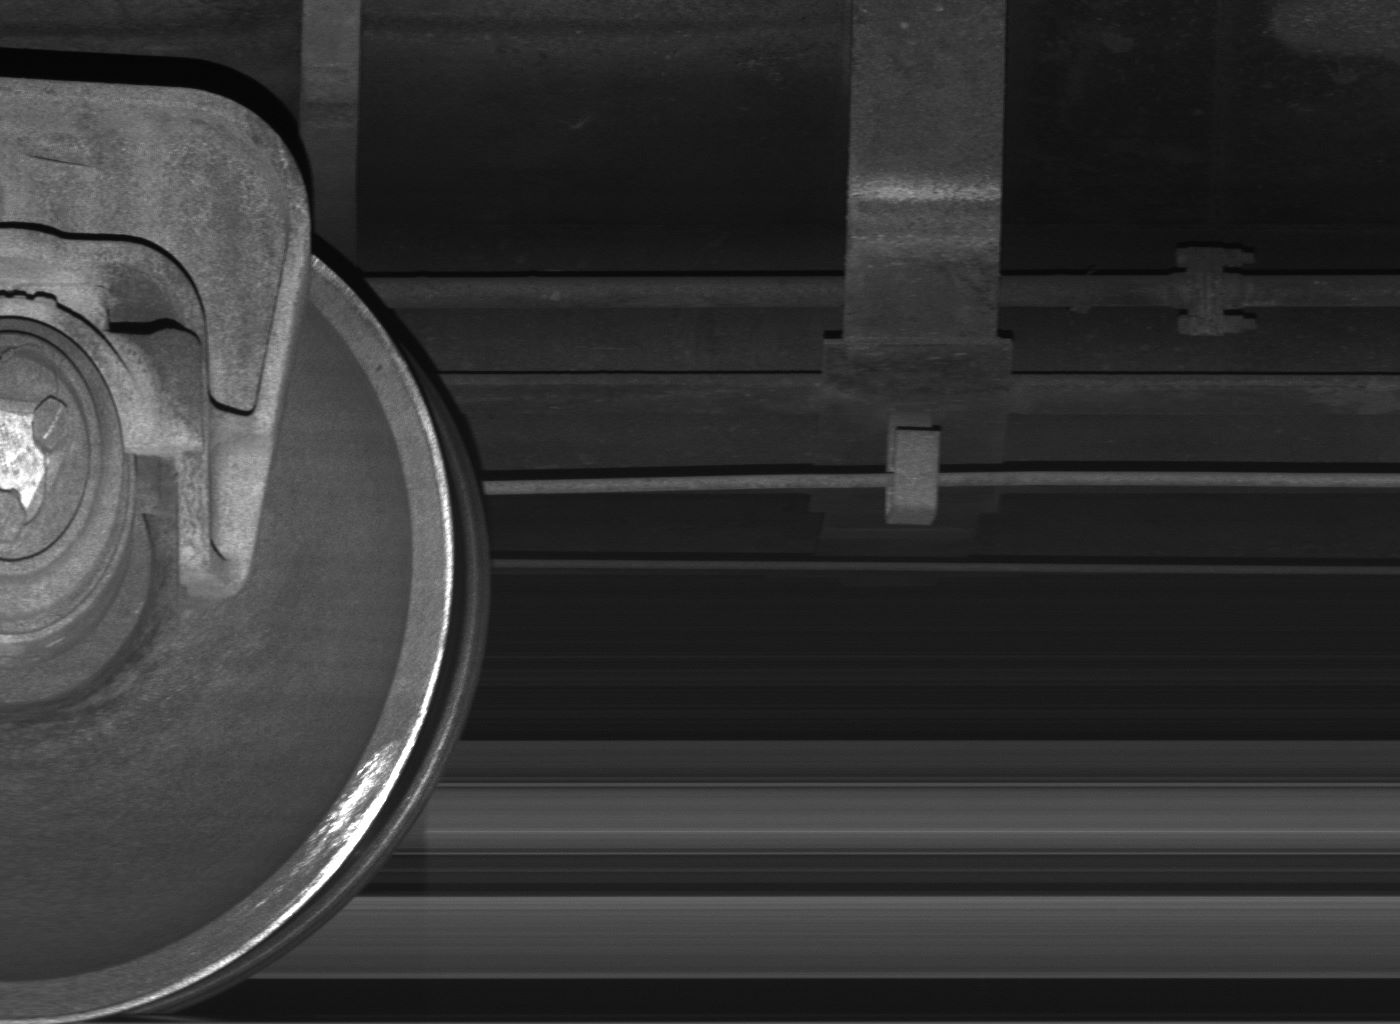normal: (885, 403, 941, 528)
